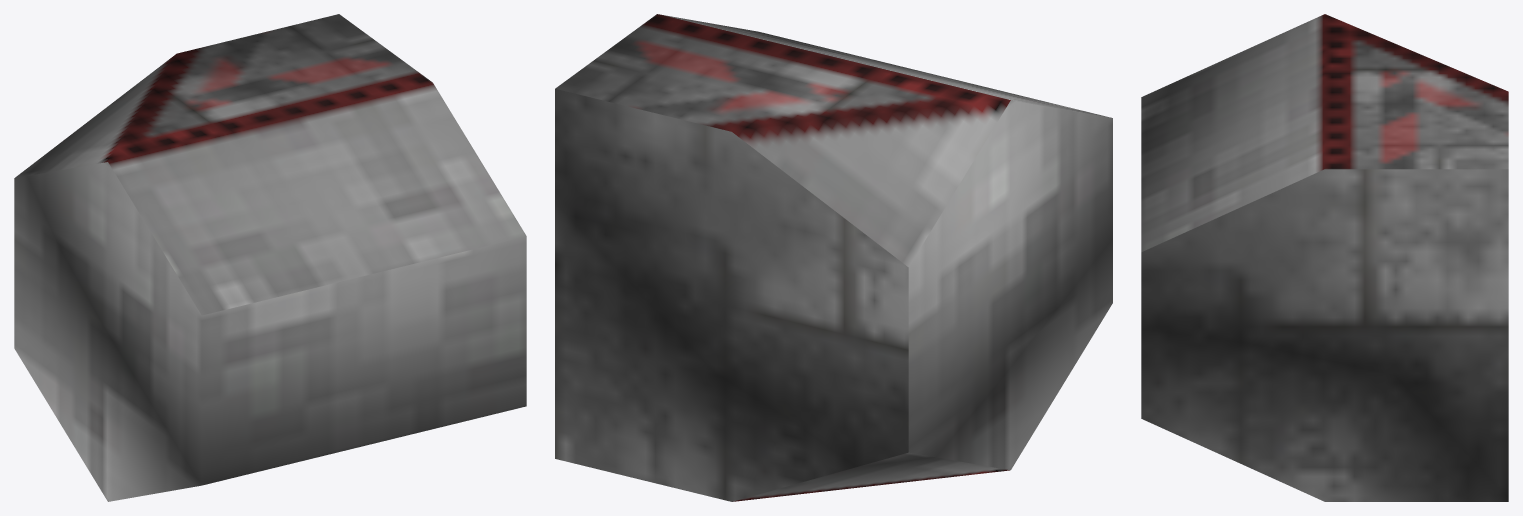
Rendered from bs_corner1_side1_m.obj.
3 renders of one model, left to right at view 1: azimuth 30°, elevation 25°; view 2: azimuth 150°, elevation 25°; view 3: azimuth 270°, elevation 25°, orthographic. The views are drawn at different scales.
Visible parts, largest first — view 1: bs_corner1_side1_m; view 2: bs_corner1_side1_m; view 3: bs_corner1_side1_m.
Boxes of the visible parts, x1,y1,x2,y2 form: bs_corner1_side1_m: (14, 14, 526, 501); bs_corner1_side1_m: (555, 14, 1112, 501); bs_corner1_side1_m: (1141, 14, 1508, 501).
Size of the model in its own units: 2 by 2 by 2.
Materials: 1 (1 with a texture image).
